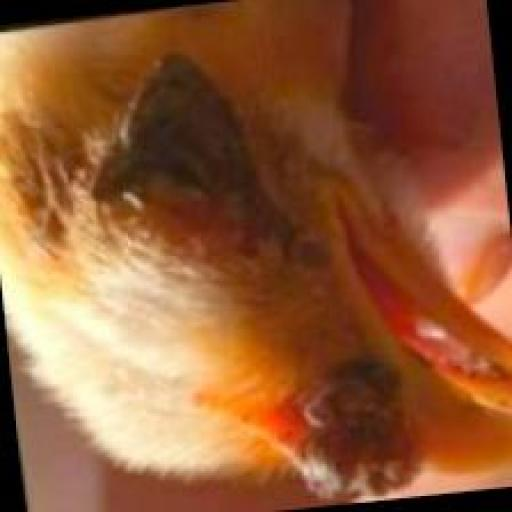disease: (42, 49, 452, 500)
